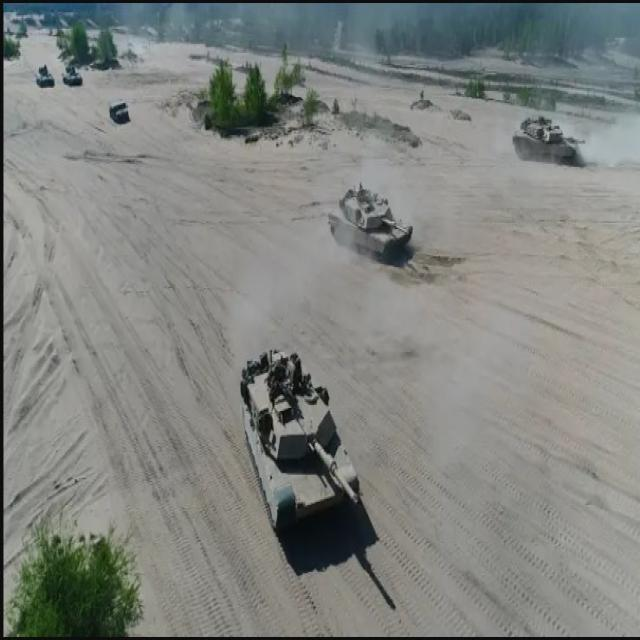tank: (240, 351, 362, 536), (328, 182, 417, 270), (512, 116, 587, 166)
